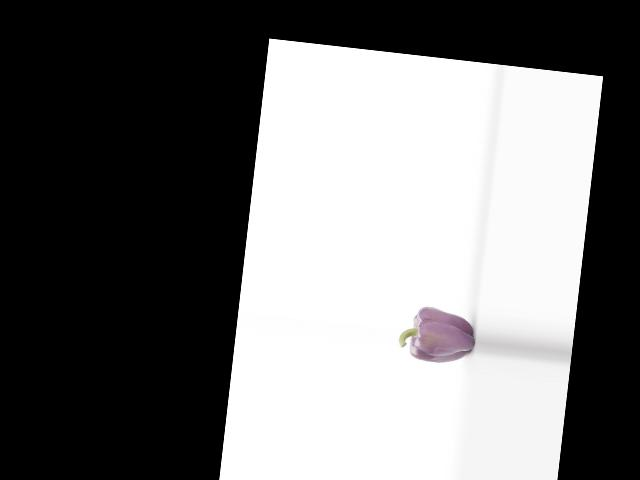bell_pepper: (397, 299, 476, 372)
